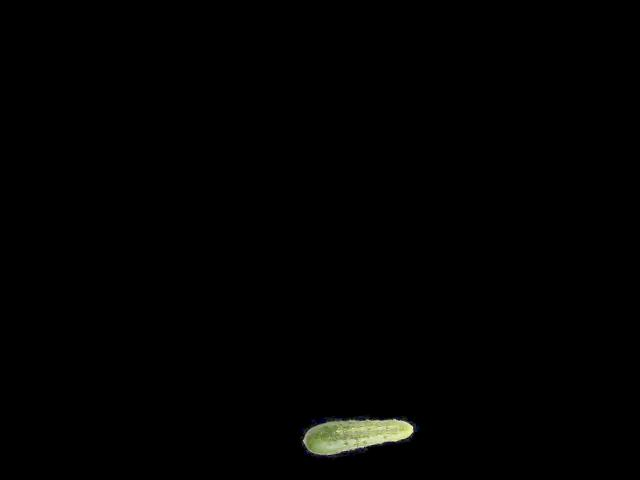cucumber: (300, 410, 414, 457)
